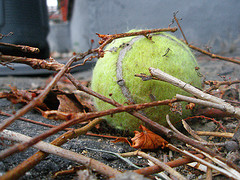tennis ball: (90, 27, 202, 135)
